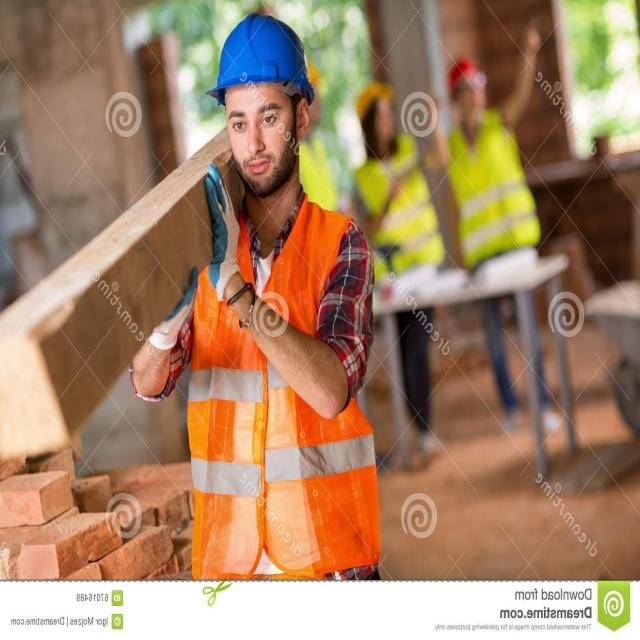Con_Chaleco: (187, 197, 360, 569)
